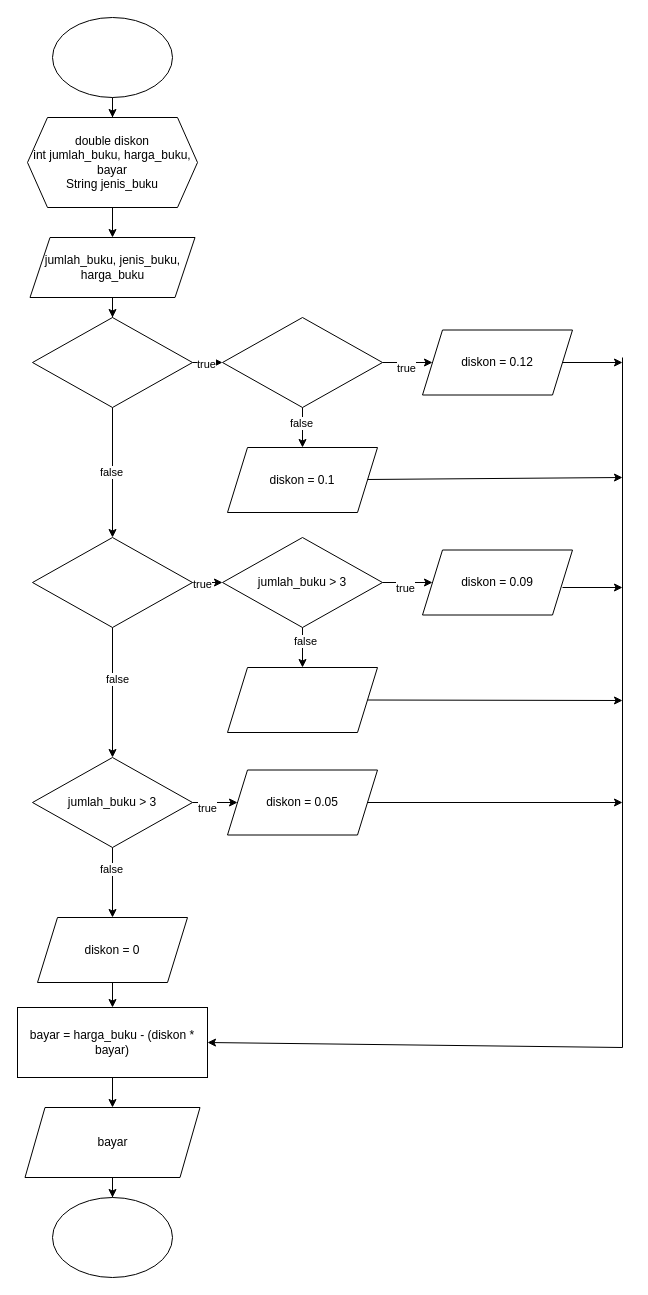
This 648x1295 diagram has some shape labels left out. The shapes that lost their labels are listed below. From the top down, each one's centre as x and y in pixels, then its label:
At pixel 112 57: "Start".
At pixel 112 362: "jenis_buku = kamus".
At pixel 302 362: "jumlah_buku > 2".
At pixel 112 582: "jenis_buku = novel".
At pixel 302 699: "diskon = 0.08".
At pixel 112 1237: "end".
